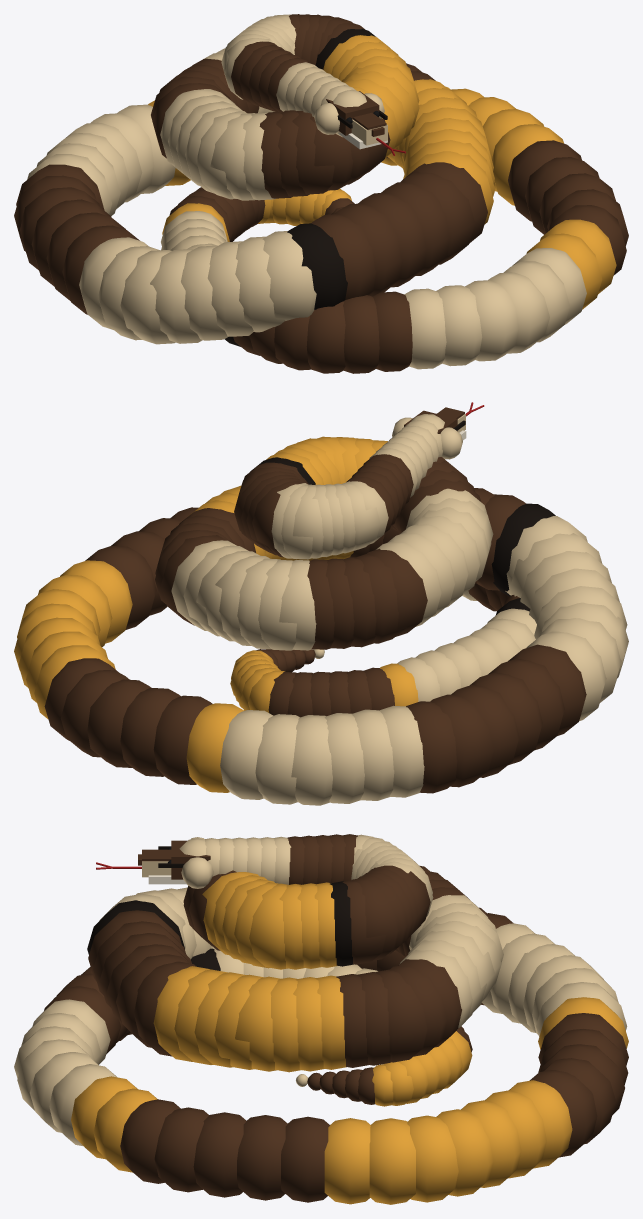
The model's file is burmese-python.glb.
The picture shows the model from 3 angles, top to bottom: view 1: azimuth 30°, elevation 25°; view 2: azimuth 150°, elevation 25°; view 3: azimuth 270°, elevation 25°; orthographic projection.
Parts seen in each view (by area): view 1: Mesh_Body_79, Mesh_Body_80, Mesh_Body_78, Mesh_Body_74, Mesh_Body_36, Mesh_Body_35, Mesh_Body_81, Mesh_Body_75, Mesh_Body_34, Mesh_Body_77, Mesh_Body_82, Mesh_Body_33 (+83 smaller); view 2: Mesh_Body_62, Mesh_Body_61, Mesh_Body_60, Mesh_Body_67, Mesh_Body_59, Mesh_Body_66, Mesh_Body_57, Mesh_Body_58, Mesh_Body_56, Mesh_Body_63, Mesh_Body_65, Mesh_Body_64 (+80 smaller); view 3: Mesh_Body_48, Mesh_Body_47, Mesh_Body_46, Mesh_Body_45, Mesh_Body_44, Mesh_Body_49, Mesh_Body_43, Mesh_Body_50, Mesh_Body_97, Mesh_Body_42, Mesh_Body_91, Mesh_Body_51 (+82 smaller).
Part boxes in pixels (x1,y1,x2,y2): Mesh_Body_79: (262,231,316,320); Mesh_Body_80: (287,223,347,309); Mesh_Body_78: (235,236,285,332); Mesh_Body_74: (120,250,175,344); Mesh_Body_36: (465,280,518,361); Mesh_Body_35: (436,285,482,366); Mesh_Body_81: (311,214,376,299); Mesh_Body_75: (150,249,202,343); Mesh_Body_34: (404,288,446,369); Mesh_Body_77: (207,241,253,336); Mesh_Body_82: (334,203,401,296); Mesh_Body_33: (373,291,412,371); Mesh_Body_62: (291,715,332,805); Mesh_Body_61: (255,714,299,804); Mesh_Body_60: (220,710,273,799); Mesh_Body_67: (430,694,493,787); Mesh_Body_59: (186,703,243,792); Mesh_Body_66: (406,701,457,793); Mesh_Body_57: (120,687,180,776); Mesh_Body_58: (153,695,212,784); Mesh_Body_56: (87,679,150,767); Mesh_Body_63: (324,713,364,803); Mesh_Body_65: (379,705,424,797); Mesh_Body_64: (351,709,394,800); Mesh_Body_48: (369,1118,415,1204); Mesh_Body_47: (324,1118,370,1204); Mesh_Body_46: (281,1116,329,1202); Mesh_Body_45: (237,1115,287,1200); Mesh_Body_44: (193,1112,246,1197); Mesh_Body_49: (407,1115,458,1202); Mesh_Body_43: (154,1107,208,1192); Mesh_Body_50: (436,1109,493,1196); Mesh_Body_97: (375,969,427,1062); Mesh_Body_42: (120,1099,180,1183); Mesh_Body_91: (235,976,280,1071); Mesh_Body_51: (461,1100,521,1187).
Bounding box in the file's own units: 0.9174 × 0.3976 × 0.9398.
